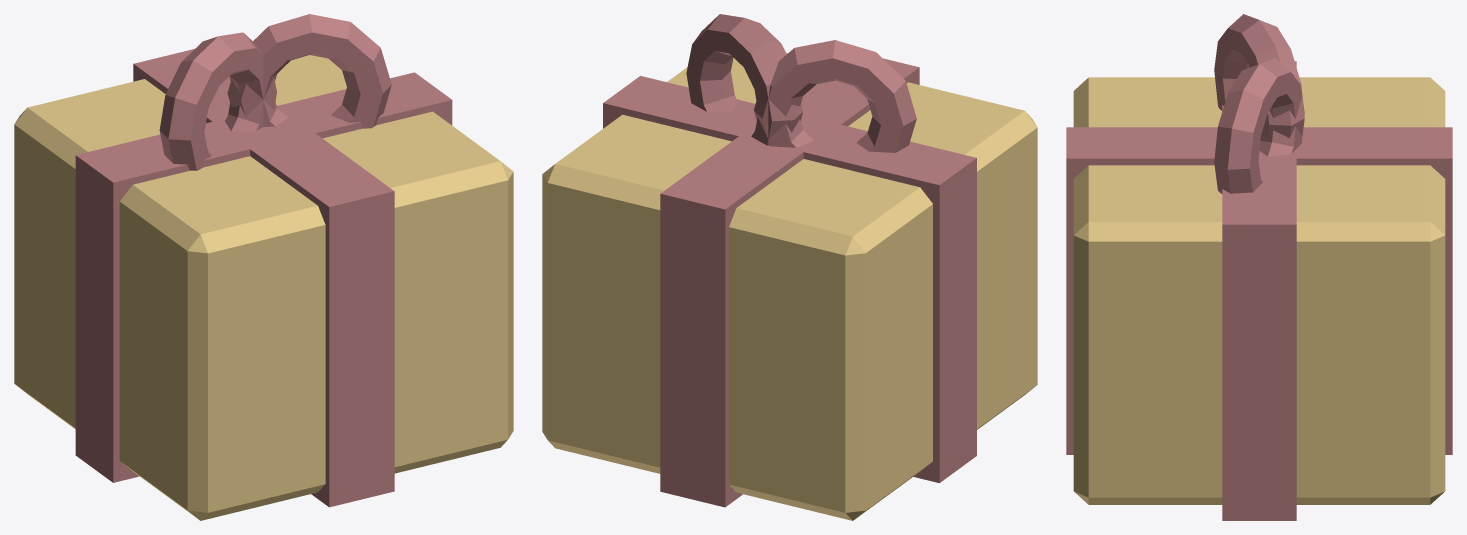
File: sb_present_gold.glb
The picture shows the model from 3 angles, left to right: view 1: azimuth 30°, elevation 25°; view 2: azimuth 150°, elevation 25°; view 3: azimuth 270°, elevation 25°; orthographic projection.
Visible parts, largest first — view 1: present_gold; view 2: present_gold; view 3: present_gold.
Part boxes in pixels (x1,y1,x2,y2): present_gold: (14, 14, 513, 520); present_gold: (542, 14, 1037, 520); present_gold: (1066, 14, 1452, 520).
Bounding box in the file's own units: 0.52 × 0.59 × 0.52.
